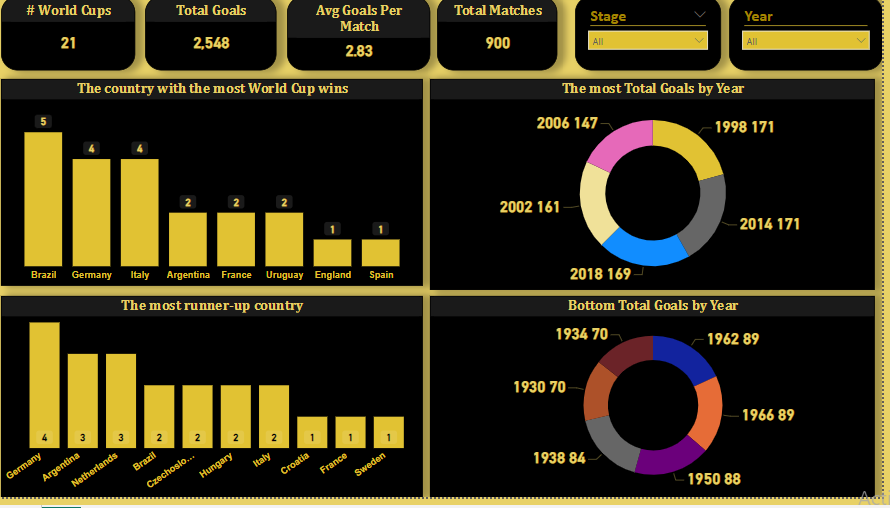

The dashboard page shown, as its layout file describes it:
{"tool":"powerbi","page":{"name":"World Cup","canvas":[1280,720],"ordinal":0},"visuals":[{"type":"columnChart","title":"The country with the most World Cup wins","fields":{"Category":["world_cups.Winner"],"Y":["CountNonNull(world_cups.Year)"]},"box":[12.9,118.6,605.7,297.1],"z":0},{"type":"card","title":"# World Cups","fields":{"Values":["DAX.# World Cups"]},"box":[12.9,0,192.9,107.1],"z":1000},{"type":"card","title":"Total Goals","fields":{"Values":["DAX.Total Goals"]},"box":[220,0,188.6,107.1],"z":2000},{"type":"card","title":"Avg Goals Per Match","fields":{"Values":["DAX.Avg Goals Per Match"]},"box":[424.3,0,205.7,107.1],"z":3000},{"type":"card","title":"Total Matches","fields":{"Values":["DAX.Total Matches"]},"box":[640,0,172.9,107.1],"z":4000},{"type":"columnChart","title":"The most runner-up country","fields":{"Category":["world_cups.Runners-Up"],"Y":["CountNonNull(world_cups.Year)"]},"box":[12.9,431.4,605.7,288.6],"z":5000},{"type":"slicer","fields":{"Values":["world_cup_matches.Year"]},"box":[1058.6,0,221.4,107.1],"z":6000},{"type":"slicer","fields":{"Values":["world_cup_matches.Stage"]},"box":[837.1,0,210,107.1],"z":7000},{"type":"donutChart","title":"The most Total Goals by Year","fields":{"Y":["Sum(world_cup_matches.Total Goals)"],"Category":["world_cup_matches.Year"]},"box":[630,118.6,638.6,302.9],"z":8000},{"type":"donutChart","title":"Bottom  Total Goals by Year","fields":{"Y":["Sum(world_cup_matches.Total Goals)"],"Category":["world_cup_matches.Year","world_cups.Host Country"]},"box":[630,431,639,289],"z":9000}]}

Visuals, with their boxes in screenshot pixels (x1, y1, x2, y2), scaled from the page's 1280x720 canvas onto the 890x508 screenshot:
"The country with the most World Cup wins" columnChart: <region>9, 84, 430, 293</region>
"# World Cups" card: <region>9, 0, 143, 76</region>
"Total Goals" card: <region>153, 0, 284, 76</region>
"Avg Goals Per Match" card: <region>295, 0, 438, 76</region>
"Total Matches" card: <region>445, 0, 565, 76</region>
"The most runner-up country" columnChart: <region>9, 304, 430, 507</region>
slicer - world_cup_matches.Year: <region>736, 0, 889, 76</region>
slicer - world_cup_matches.Stage: <region>582, 0, 728, 76</region>
"The most Total Goals by Year" donutChart: <region>438, 84, 882, 297</region>
"Bottom  Total Goals by Year" donutChart: <region>438, 304, 882, 507</region>
